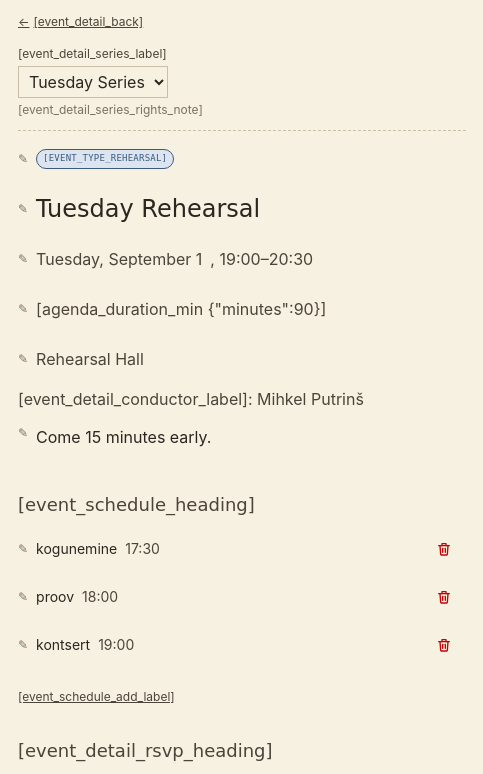
Test: #262 — edit flow (whole-field activator, replace choreography) › activating opens name + datetime seeded with the CURRENT values (datetime as the Tallinn wall clock the row displays)
Expected: the heading with test id "event-detail-name" shows "Tuesday Rehearsal", [18, 187, 466, 231]
What coordinates should you click on to do the following:
click the button with test id "event-schedule-edit-si1"
I would click on:
 (216, 549)
Its box is [18, 527, 414, 571].
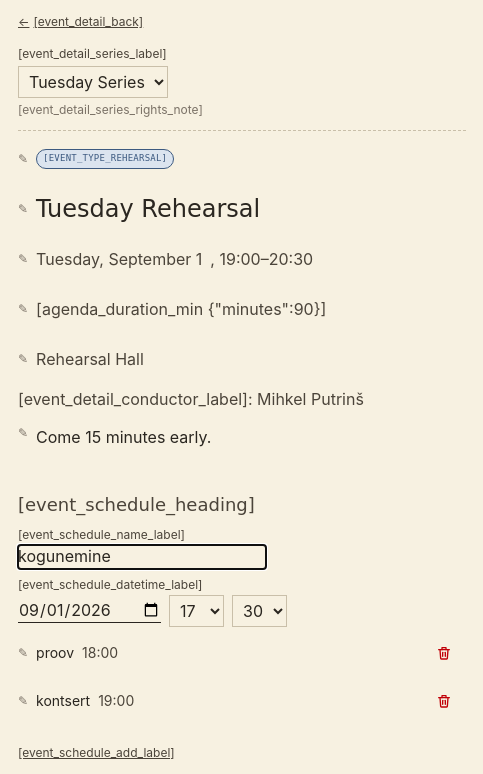
Result: the field with test id "event-schedule-edit-name-si1" holds "kogunemine" at [18, 545, 266, 569]
